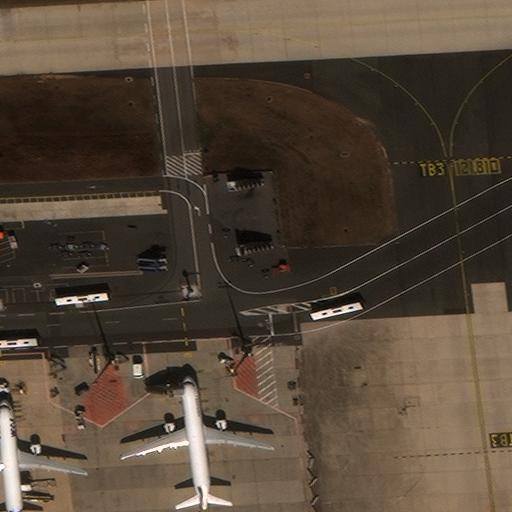Medium Civil Transport: (120, 375, 271, 509), (0, 399, 86, 511)
